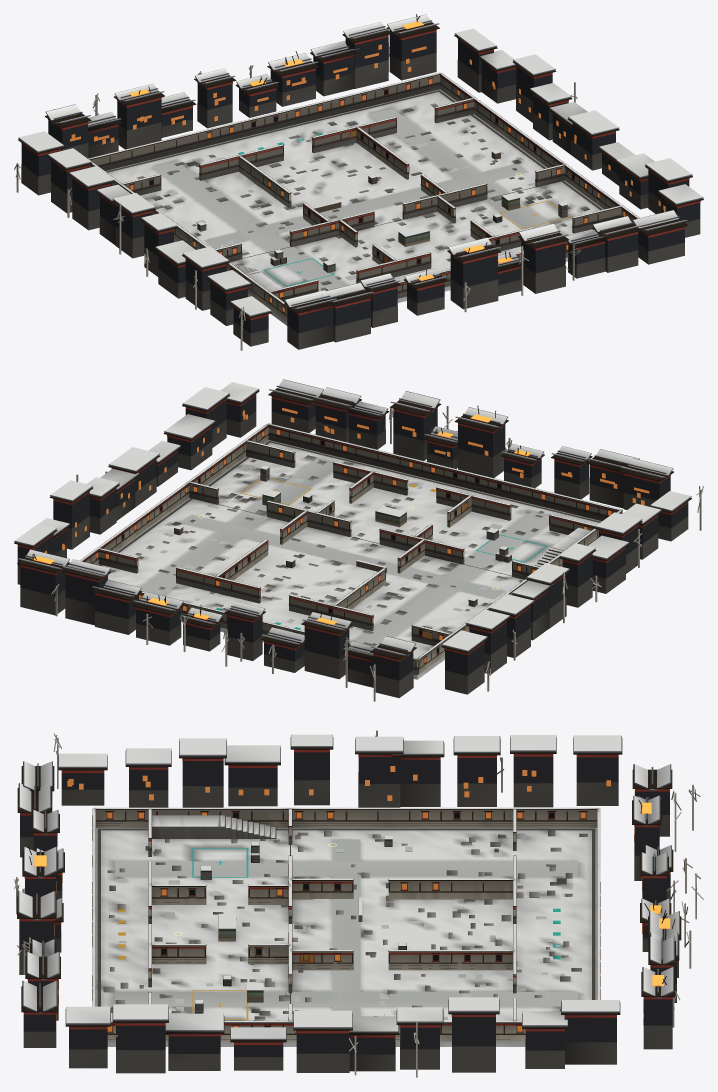
File: map_crossing.glb
3 renders of one model, top to bottom at view 1: azimuth 30°, elevation 25°; view 2: azimuth 150°, elevation 25°; view 3: azimuth 270°, elevation 25°, orthographic. The views are drawn at different scales.
Parts seen in each view (by area): view 1: map_crossing; view 2: map_crossing; view 3: map_crossing.
Boxes of the visible parts, bbox=[...] form: map_crossing: bbox=[14, 14, 703, 350]; map_crossing: bbox=[14, 379, 703, 701]; map_crossing: bbox=[14, 730, 703, 1077].
Size of the model in its own units: 99.7 by 12.57 by 98.39.
